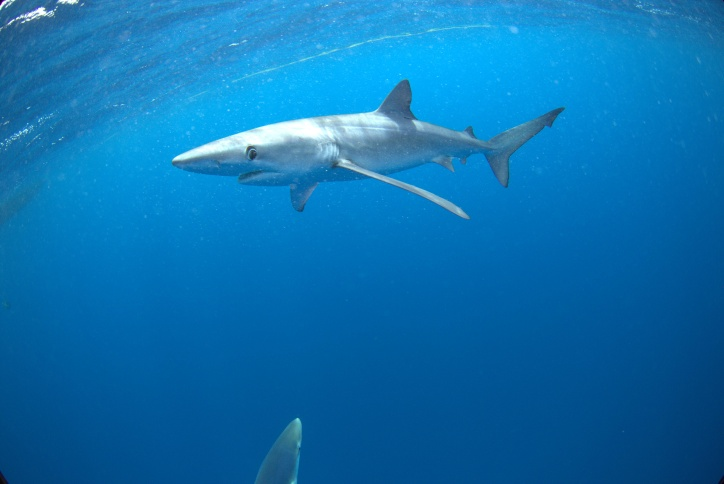Azul: (163, 66, 572, 251)
